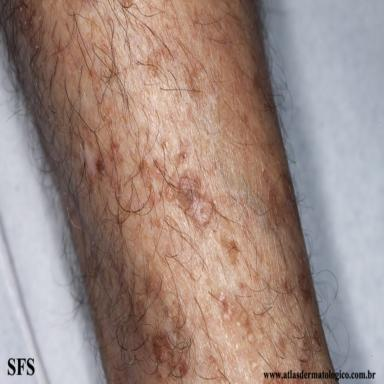Porokeratosis: (167, 172, 214, 226), (152, 333, 187, 376), (269, 189, 282, 225)
